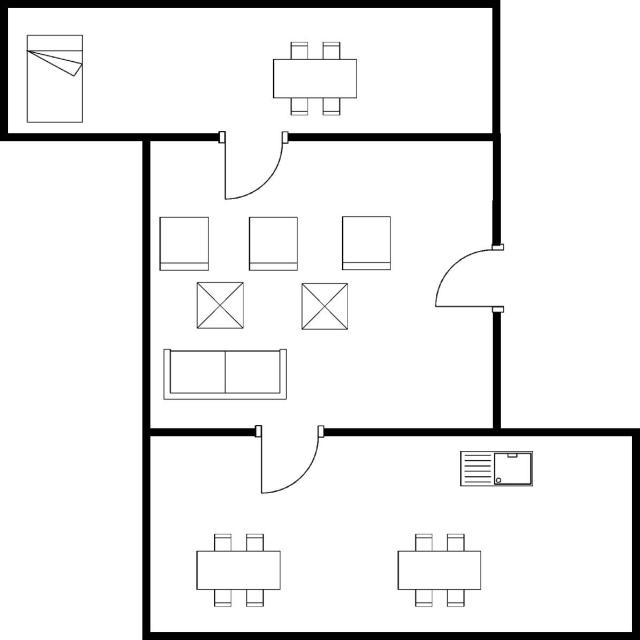bed: (22, 28, 88, 125)
coffee_table: (192, 276, 248, 334), (296, 280, 352, 333)
dining_table: (189, 526, 285, 610), (392, 530, 489, 610), (268, 37, 362, 118)
large_sofa: (156, 344, 291, 404)
sink: (456, 447, 538, 492)
small_sofa: (244, 212, 302, 275), (338, 212, 394, 275), (155, 213, 212, 273)
